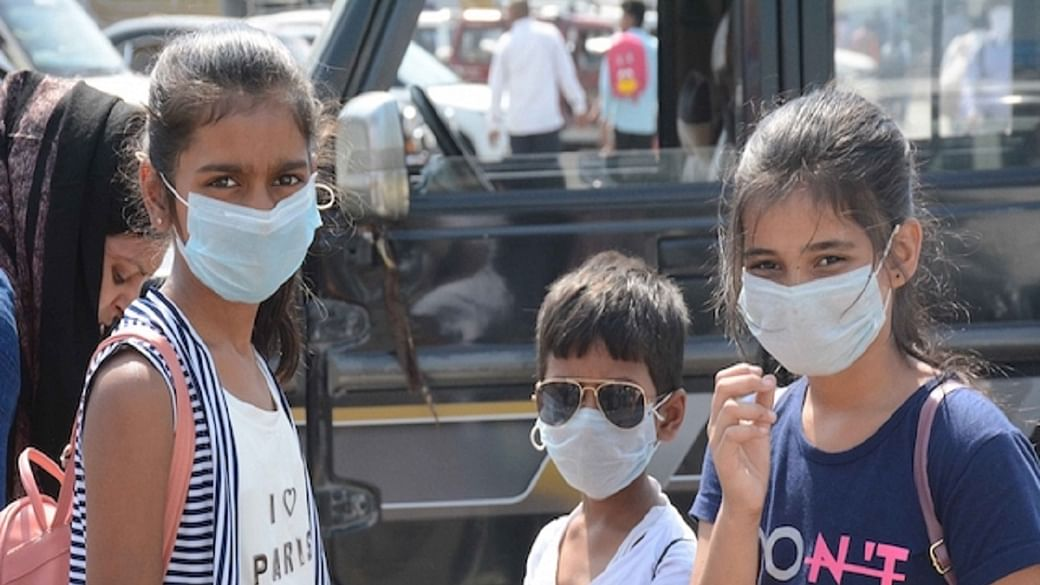with_mask: (187, 143, 313, 269), (745, 228, 878, 347), (545, 357, 652, 478)
without_mask: (91, 246, 139, 333)
